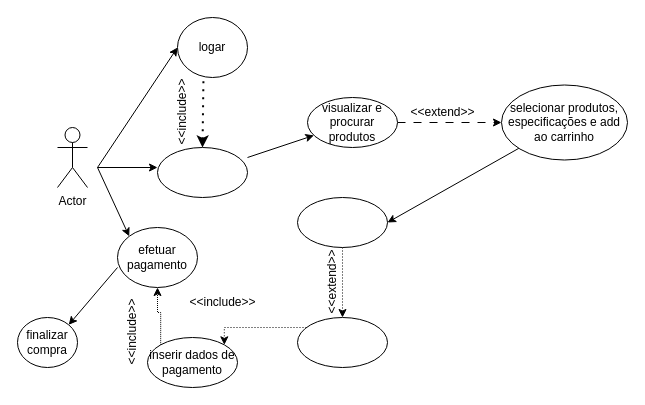
The diagram is 645 pixels wide and 405 high, and some of its shapes have lost their labels. Here are the shapes that lost their labels. From the top down, the box of each, then its label:
(156, 146, 248, 198): cadastrar
(296, 196, 388, 248): visualizar carrinho e valores
(296, 316, 388, 368): proseseguir para finalização
